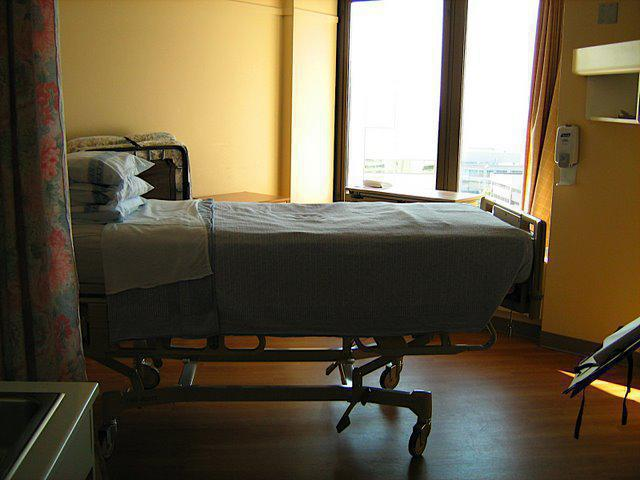Cama: (80, 193, 557, 359)
Ventana: (340, 10, 530, 195)
